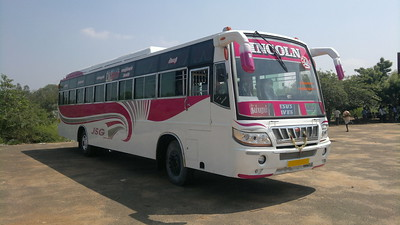bus: (58, 28, 329, 185)
